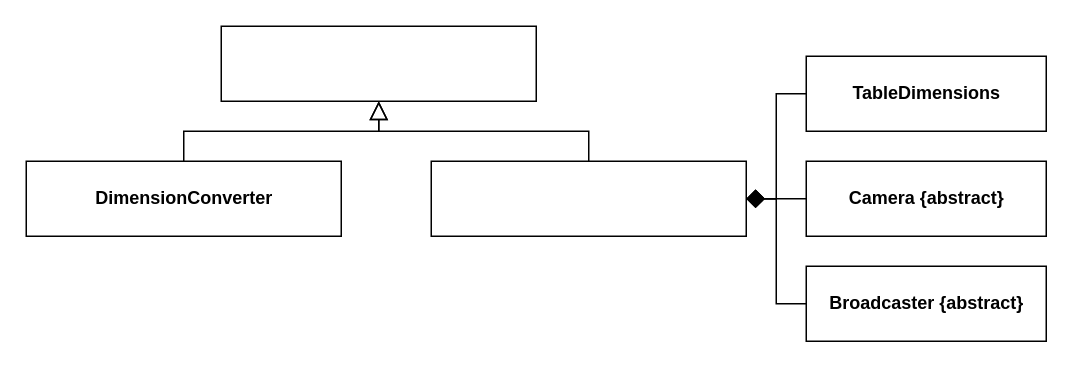
Some shapes in this 1073 by 368 pixel diagram are drawn without their labels. Each missing label, with the centre of its shape:
"DimensionConverterConfiguration" belongs at pixel 588 198.
"DimensionConverterCore" belongs at pixel 378 63.
